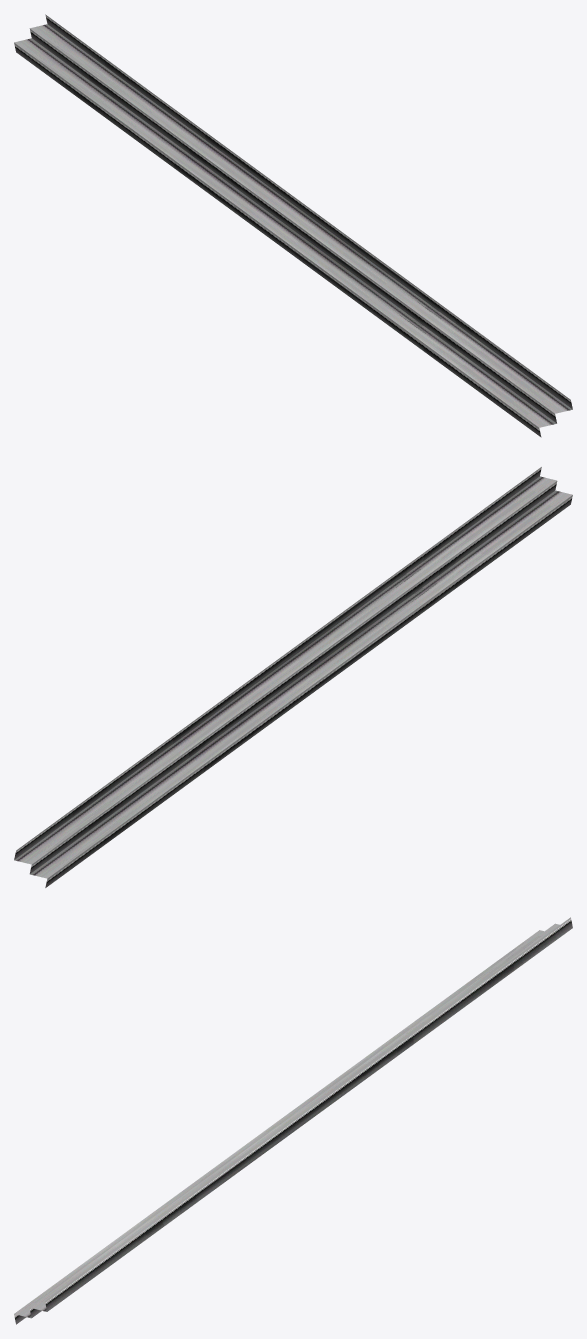
File: TTreppeBreit2Stufen_383.glb
3 views of the same model, one above another, from view 1: azimuth 30°, elevation 25°; view 2: azimuth 150°, elevation 25°; view 3: azimuth 330°, elevation 25° (orthographic).
Parts seen in each view (by area): view 1: pPlaneShape48; view 2: pPlaneShape48; view 3: pPlaneShape48.
Part boxes in pixels (x1,y1,x2,y2): pPlaneShape48: (14,14,572,437); pPlaneShape48: (14,467,572,887); pPlaneShape48: (14,917,572,1324).
Bounding box in the file's own units: 0.1131 × 0.0974 × 3.
Materials: 1 (1 with a texture image).
